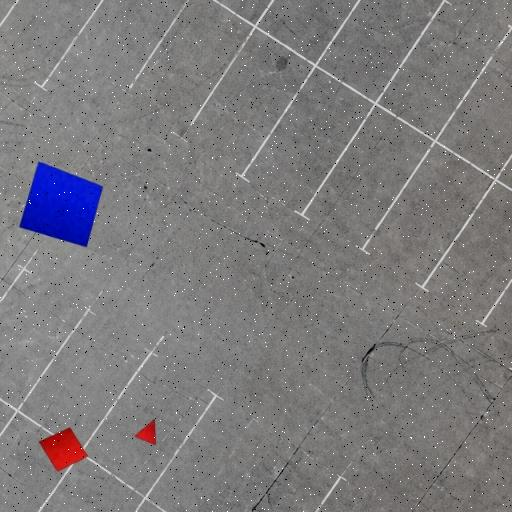BLUE_SQUARE: (18, 161, 104, 248)
RED_SQUARE: (38, 426, 88, 473)
